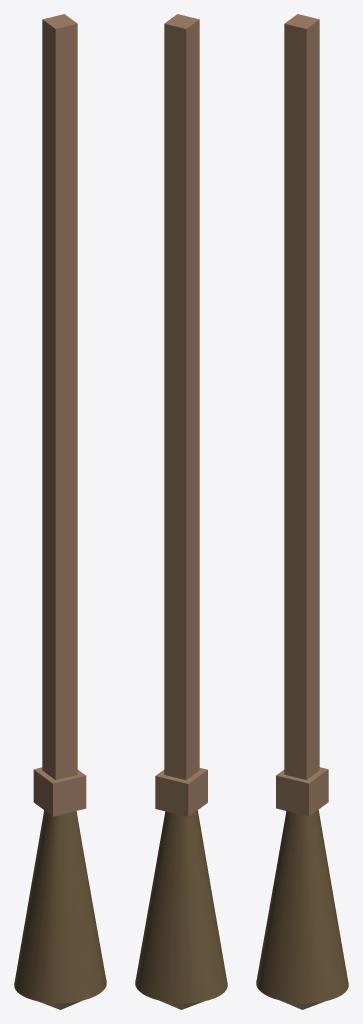
3 renders of one model, left to right at view 1: azimuth 30°, elevation 25°; view 2: azimuth 150°, elevation 25°; view 3: azimuth 330°, elevation 25°, orthographic.
Parts seen in each view (by area): view 1: shaft, foot, collar; view 2: shaft, foot, collar; view 3: shaft, foot, collar.
Part boxes in pixels (x1=…): shaft: x1=42, y1=14, x2=77, y2=779; foot: x1=14, y1=810, x2=106, y2=1009; collar: x1=33, y1=767, x2=86, y2=816; shaft: x1=164, y1=14, x2=199, y2=779; foot: x1=135, y1=810, x2=227, y2=1009; collar: x1=155, y1=768, x2=207, y2=816; shaft: x1=284, y1=14, x2=319, y2=779; foot: x1=256, y1=810, x2=348, y2=1009; collar: x1=276, y1=767, x2=328, y2=816.
Size of the model in its own units: 0.1033 by 1.2 by 0.0976.
